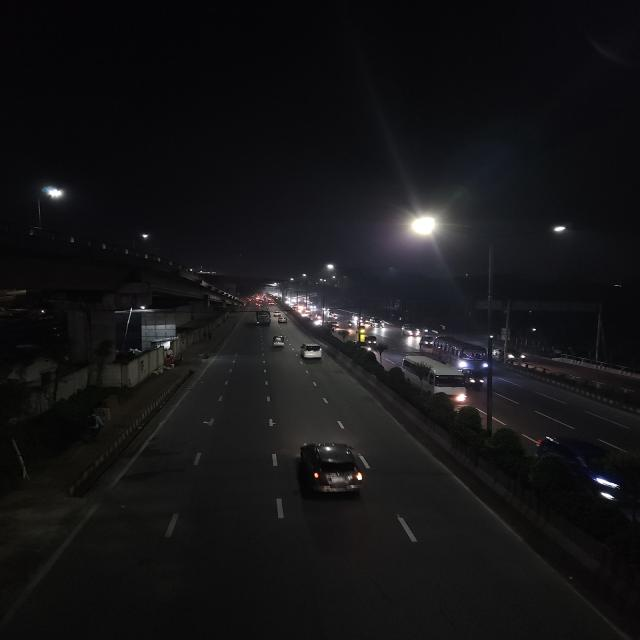bus: (402, 355, 466, 405), (432, 336, 490, 370), (254, 310, 272, 326)
car: (296, 440, 369, 508), (298, 337, 326, 365), (495, 346, 526, 362), (402, 326, 419, 338), (370, 317, 385, 329), (276, 316, 290, 323), (330, 320, 340, 329), (272, 310, 283, 317)
cng: (464, 368, 484, 393), (417, 334, 435, 349), (271, 334, 286, 349), (366, 336, 379, 347), (355, 326, 369, 334)
motorcycle: (421, 326, 431, 336), (346, 321, 354, 329)
pedestrian: (496, 349, 504, 367)
